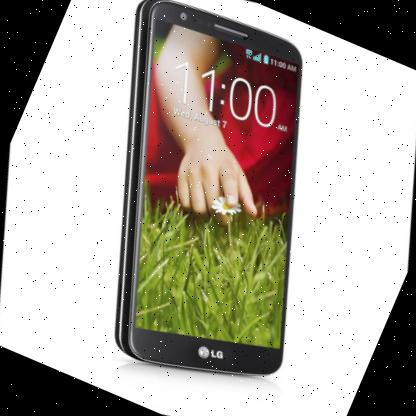phone good: (106, 0, 366, 382)
